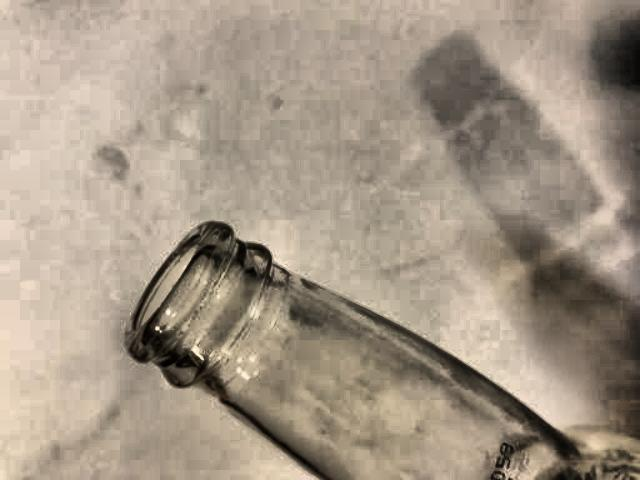Bottles: (122, 206, 640, 480)
